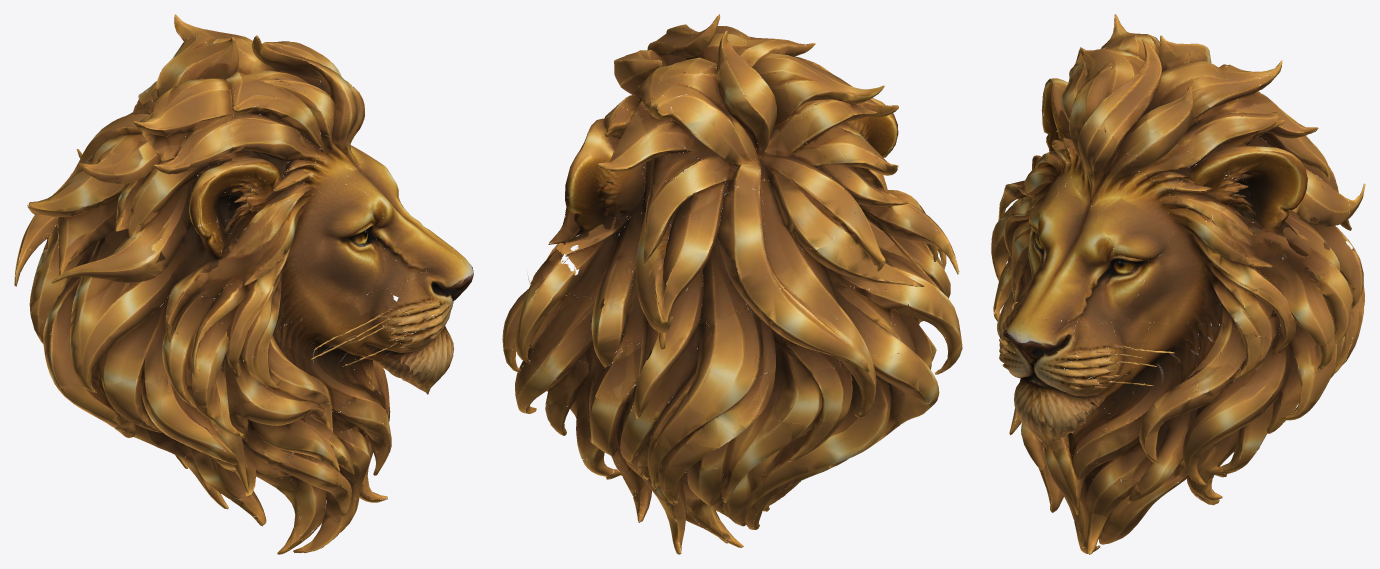
File: lion-mobile.glb
3 views of the same model, side by side, from view 1: azimuth 30°, elevation 25°; view 2: azimuth 150°, elevation 25°; view 3: azimuth 270°, elevation 25° (orthographic). The views are drawn at different scales.
Parts seen in each view (by area): view 1: tripo_node_755e879b-e665-42ce-9f13-41e40b9459c3; view 2: tripo_node_755e879b-e665-42ce-9f13-41e40b9459c3; view 3: tripo_node_755e879b-e665-42ce-9f13-41e40b9459c3.
Part boxes in pixels (left/top/right/bottom): tripo_node_755e879b-e665-42ce-9f13-41e40b9459c3: left=14, top=14, right=473, bottom=554; tripo_node_755e879b-e665-42ce-9f13-41e40b9459c3: left=502, top=14, right=962, bottom=554; tripo_node_755e879b-e665-42ce-9f13-41e40b9459c3: left=991, top=14, right=1365, bottom=554.
Bounding box in the file's own units: 1.55 × 2 × 1.35.
1 material, 1 textured.
